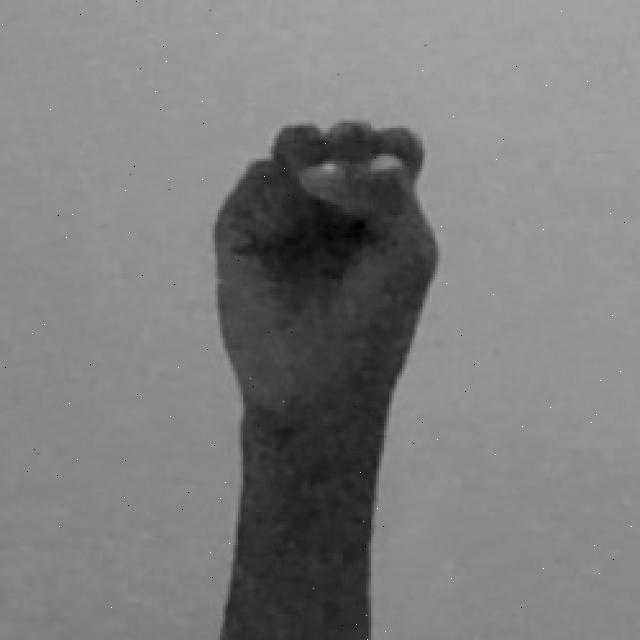S: (208, 115, 446, 640)
